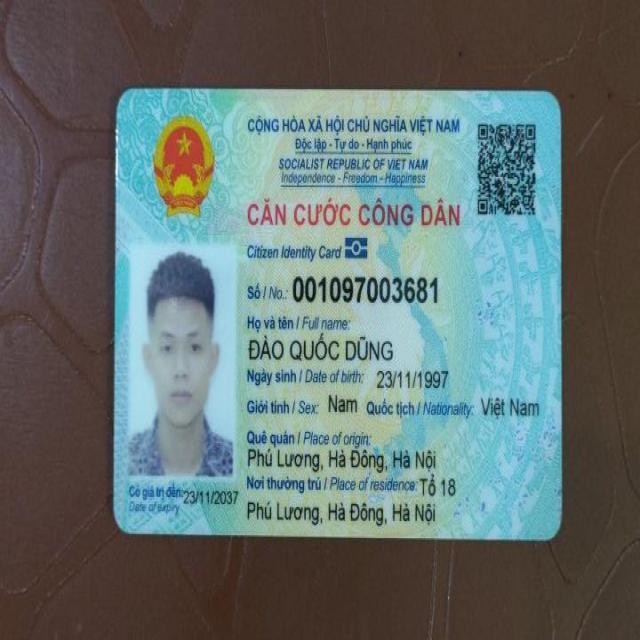bottom_left: (102, 506, 144, 544)
bottom_right: (533, 510, 573, 554)
image_person: (126, 247, 240, 478)
top_left: (104, 76, 146, 125)
top_right: (530, 77, 571, 121)
